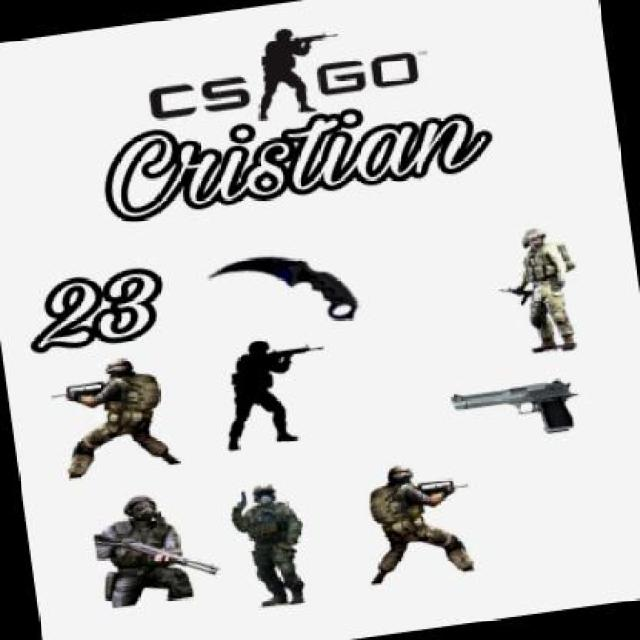MIL_Pax: (43, 347, 188, 481), (353, 452, 479, 588), (493, 220, 592, 365), (88, 486, 201, 611), (205, 332, 310, 454), (226, 479, 312, 615), (242, 22, 320, 122)
